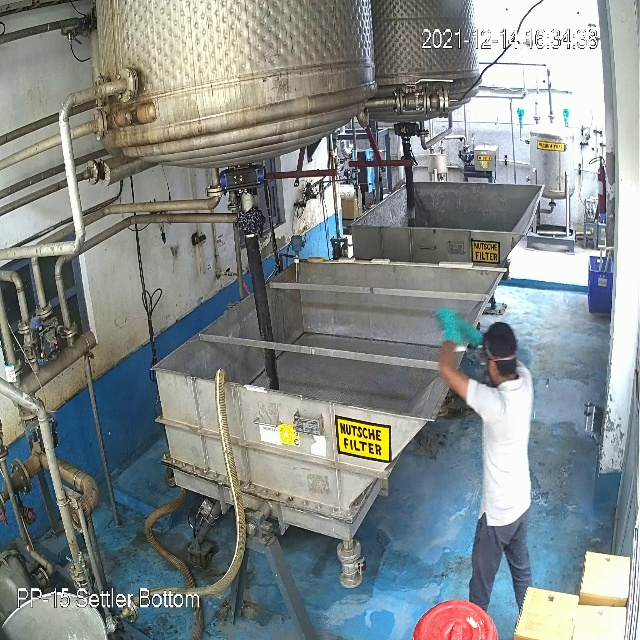Guantes: (434, 307, 463, 353)
